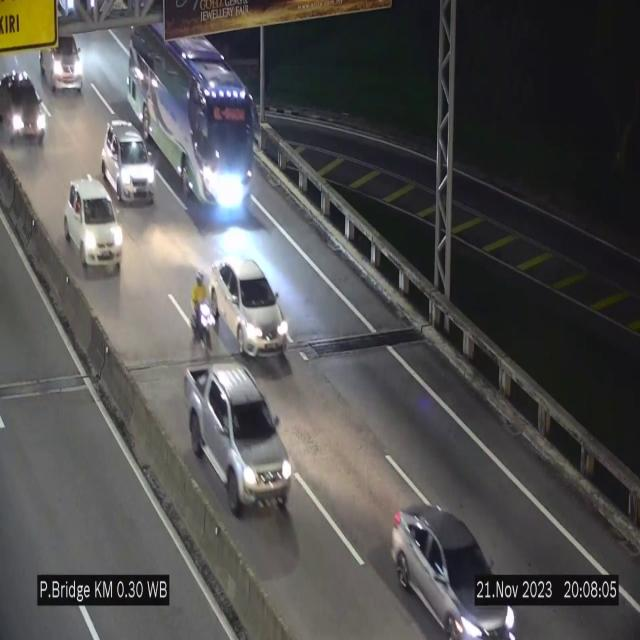Bus: (127, 30, 260, 211)
Car: (391, 506, 515, 640), (185, 362, 292, 515), (212, 257, 292, 360), (65, 178, 123, 272), (102, 120, 156, 204)
Motorcycle: (190, 266, 216, 350)
